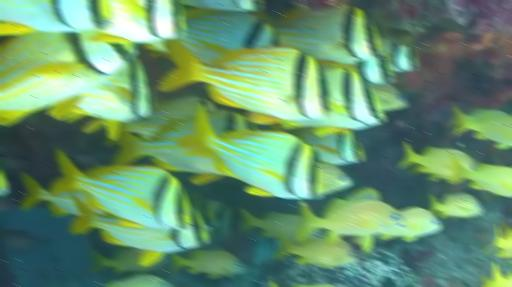Fish: (160, 40, 332, 123), (178, 107, 322, 197), (0, 32, 136, 123), (51, 150, 195, 228), (69, 198, 208, 265), (48, 57, 153, 139), (279, 68, 385, 135), (274, 5, 383, 62), (113, 117, 220, 173), (177, 8, 277, 62), (298, 201, 403, 242), (121, 96, 215, 139), (91, 0, 185, 42), (0, 0, 113, 34), (398, 142, 477, 180), (273, 237, 358, 267), (21, 173, 80, 216), (190, 192, 239, 241), (296, 130, 364, 164), (449, 105, 511, 140), (170, 250, 244, 277), (381, 208, 441, 241), (241, 209, 302, 241), (92, 248, 166, 273), (449, 164, 511, 193), (325, 187, 382, 216), (190, 192, 232, 227), (430, 193, 483, 217), (355, 52, 394, 83), (381, 40, 418, 71), (370, 83, 408, 110), (319, 163, 352, 193), (196, 0, 262, 11), (484, 226, 511, 252), (107, 276, 173, 286), (486, 264, 511, 286), (0, 168, 8, 196), (296, 284, 334, 286)
